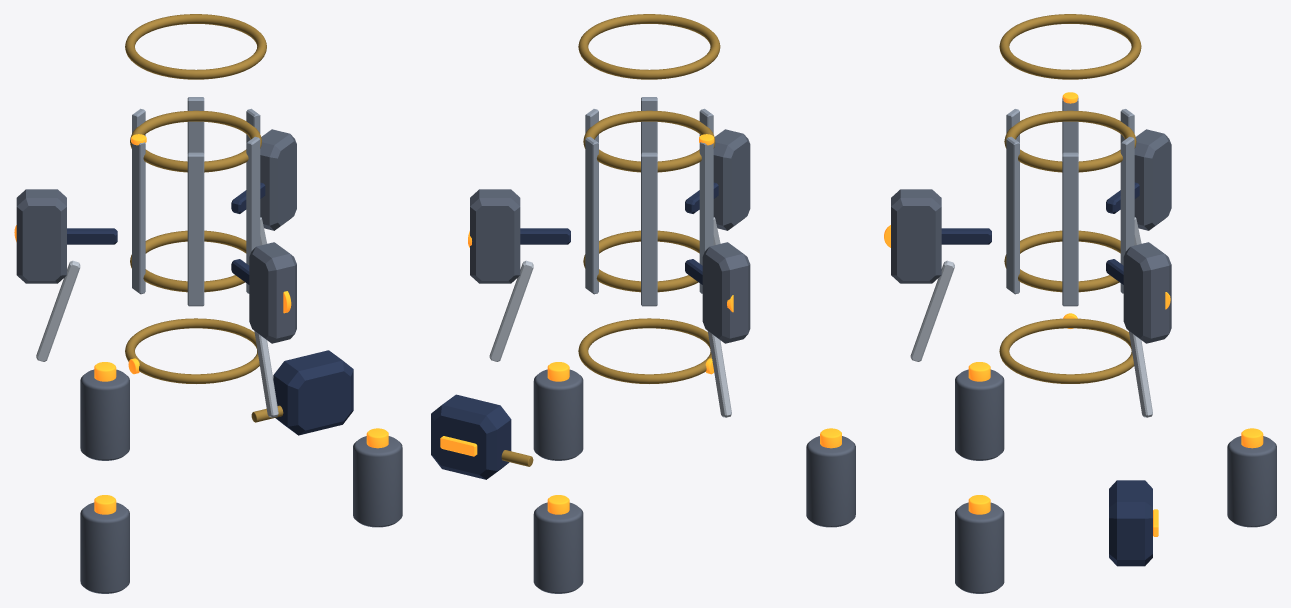
File: tower_overclock_potency_s8.glb
The picture shows the model from 3 angles, left to right: view 1: azimuth 30°, elevation 25°; view 2: azimuth 150°, elevation 25°; view 3: azimuth 270°, elevation 25°; orthographic projection.
Parts seen in each view (by area): view 1: overclock_trap_coupler, overclock_aura_emitter0, overclock_aura_emitter2, overclock_cap0, overclock_cap1, overclock_cap2, overclock_aura_emitter1, overclock_conductor_b2.36, overclock_conductor_b1.14, overclock_vane5, overclock_conductor1.98, overclock_vane0 (+6 smaller); view 2: overclock_trap_coupler, overclock_aura_emitter1, overclock_aura_emitter0, overclock_cap1, overclock_cap0, overclock_cap2, overclock_aura_emitter2, overclock_conductor_b2.36, overclock_conductor_b1.14, overclock_vane1, overclock_conductor1.98, overclock_vane2 (+6 smaller); view 3: overclock_aura_emitter2, overclock_aura_emitter1, overclock_cap2, overclock_cap0, overclock_cap1, overclock_trap_coupler, overclock_aura_emitter0, overclock_conductor_b2.36, overclock_conductor_b1.14, overclock_conductor1.98, overclock_vane3, overclock_vane4 (+6 smaller).
Part boxes in pixels (x1=…): overclock_trap_coupler: x1=273, y1=350, x2=353, y2=435; overclock_aura_emitter0: x1=16, y1=189, x2=66, y2=283; overclock_aura_emitter2: x1=249, y1=242, x2=296, y2=343; overclock_cap0: x1=80, y1=369, x2=129, y2=460; overclock_cap1: x1=353, y1=436, x2=402, y2=527; overclock_cap2: x1=80, y1=502, x2=129, y2=593; overclock_aura_emitter1: x1=260, y1=129, x2=296, y2=230; overclock_conductor_b2.36: x1=125, y1=14, x2=266, y2=79; overclock_conductor_b1.14: x1=125, y1=318, x2=259, y2=383; overclock_vane5: x1=187, y1=152, x2=204, y2=306; overclock_conductor1.98: x1=130, y1=110, x2=261, y2=172; overclock_vane0: x1=132, y1=142, x2=145, y2=294; overclock_trap_coupler: x1=431, y1=394, x2=511, y2=479; overclock_aura_emitter1: x1=470, y1=189, x2=520, y2=283; overclock_aura_emitter0: x1=702, y1=242, x2=750, y2=343; overclock_cap1: x1=533, y1=369, x2=583, y2=460; overclock_cap0: x1=533, y1=502, x2=583, y2=593; overclock_cap2: x1=806, y1=436, x2=855, y2=527; overclock_aura_emitter2: x1=713, y1=129, x2=750, y2=230; overclock_conductor_b2.36: x1=578, y1=14, x2=720, y2=79; overclock_conductor_b1.14: x1=578, y1=318, x2=711, y2=383; overclock_vane1: x1=641, y1=152, x2=657, y2=306; overclock_conductor1.98: x1=583, y1=110, x2=715, y2=172; overclock_vane2: x1=585, y1=136, x2=598, y2=294; overclock_aura_emitter2: x1=891, y1=189, x2=941, y2=283; overclock_aura_emitter1: x1=1123, y1=242, x2=1171, y2=343; overclock_cap2: x1=955, y1=369, x2=1004, y2=460; overclock_cap0: x1=1227, y1=436, x2=1276, y2=527; overclock_cap1: x1=955, y1=502, x2=1004, y2=593; overclock_trap_coupler: x1=1109, y1=480, x2=1152, y2=566; overclock_aura_emitter0: x1=1134, y1=129, x2=1171, y2=230; overclock_conductor_b2.36: x1=999, y1=14, x2=1141, y2=79; overclock_conductor_b1.14: x1=999, y1=318, x2=1134, y2=383; overclock_conductor1.98: x1=1004, y1=110, x2=1136, y2=172; overclock_vane3: x1=1062, y1=152, x2=1078, y2=306; overclock_vane4: x1=1006, y1=136, x2=1019, y2=294.
Size of the model in its own units: 1.42 by 1.91 by 1.43.
